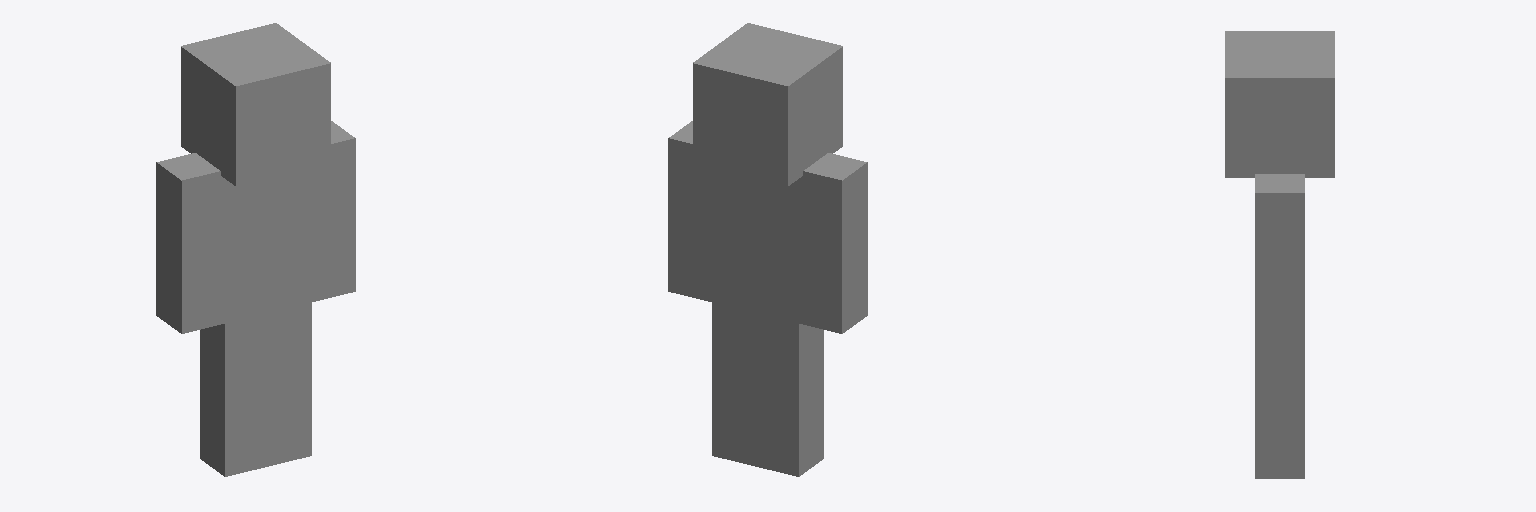
Rendered from player_statue.obj.
3 renders of one model, left to right at view 1: azimuth 30°, elevation 25°; view 2: azimuth 150°, elevation 25°; view 3: azimuth 270°, elevation 25°, orthographic.
Visible parts, largest first — view 1: Player_Cube.001; view 2: Player_Cube.001; view 3: Player_Cube.001.
Boxes of the visible parts, x1=… form: Player_Cube.001: x1=156, y1=23, x2=355, y2=476; Player_Cube.001: x1=668, y1=23, x2=867, y2=476; Player_Cube.001: x1=1225, y1=31, x2=1334, y2=478.
Size of the model in its own units: 1.85 by 4.09 by 1.02.